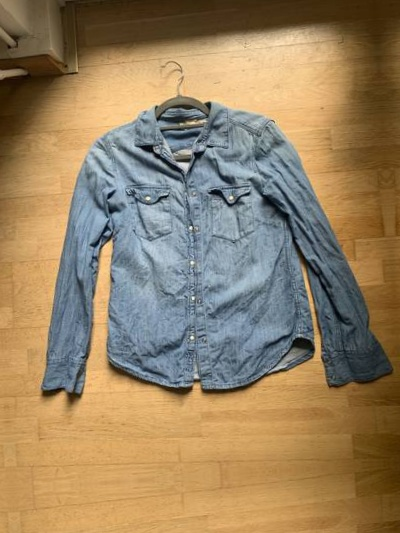Blazer: (0, 49, 395, 431), (386, 23, 400, 404), (32, 521, 400, 533)
